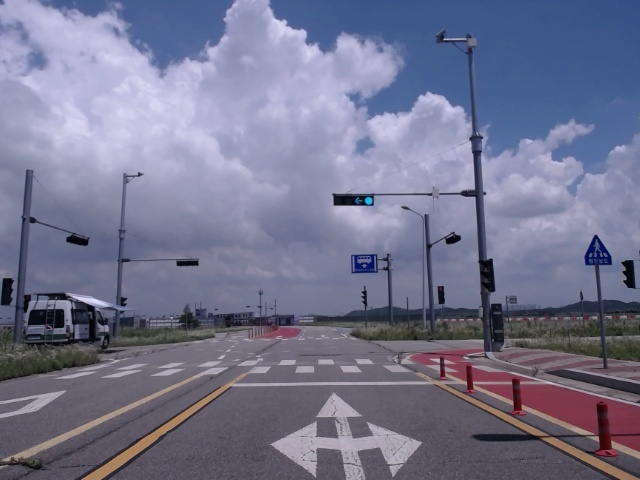all_green_4: (334, 194, 374, 207)
